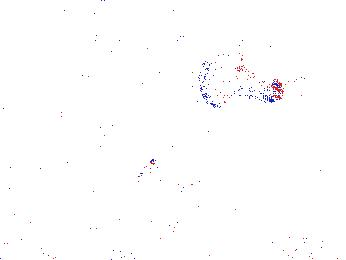flame jellyfish: (195, 49, 284, 109), (222, 169, 291, 221), (138, 157, 196, 210)
